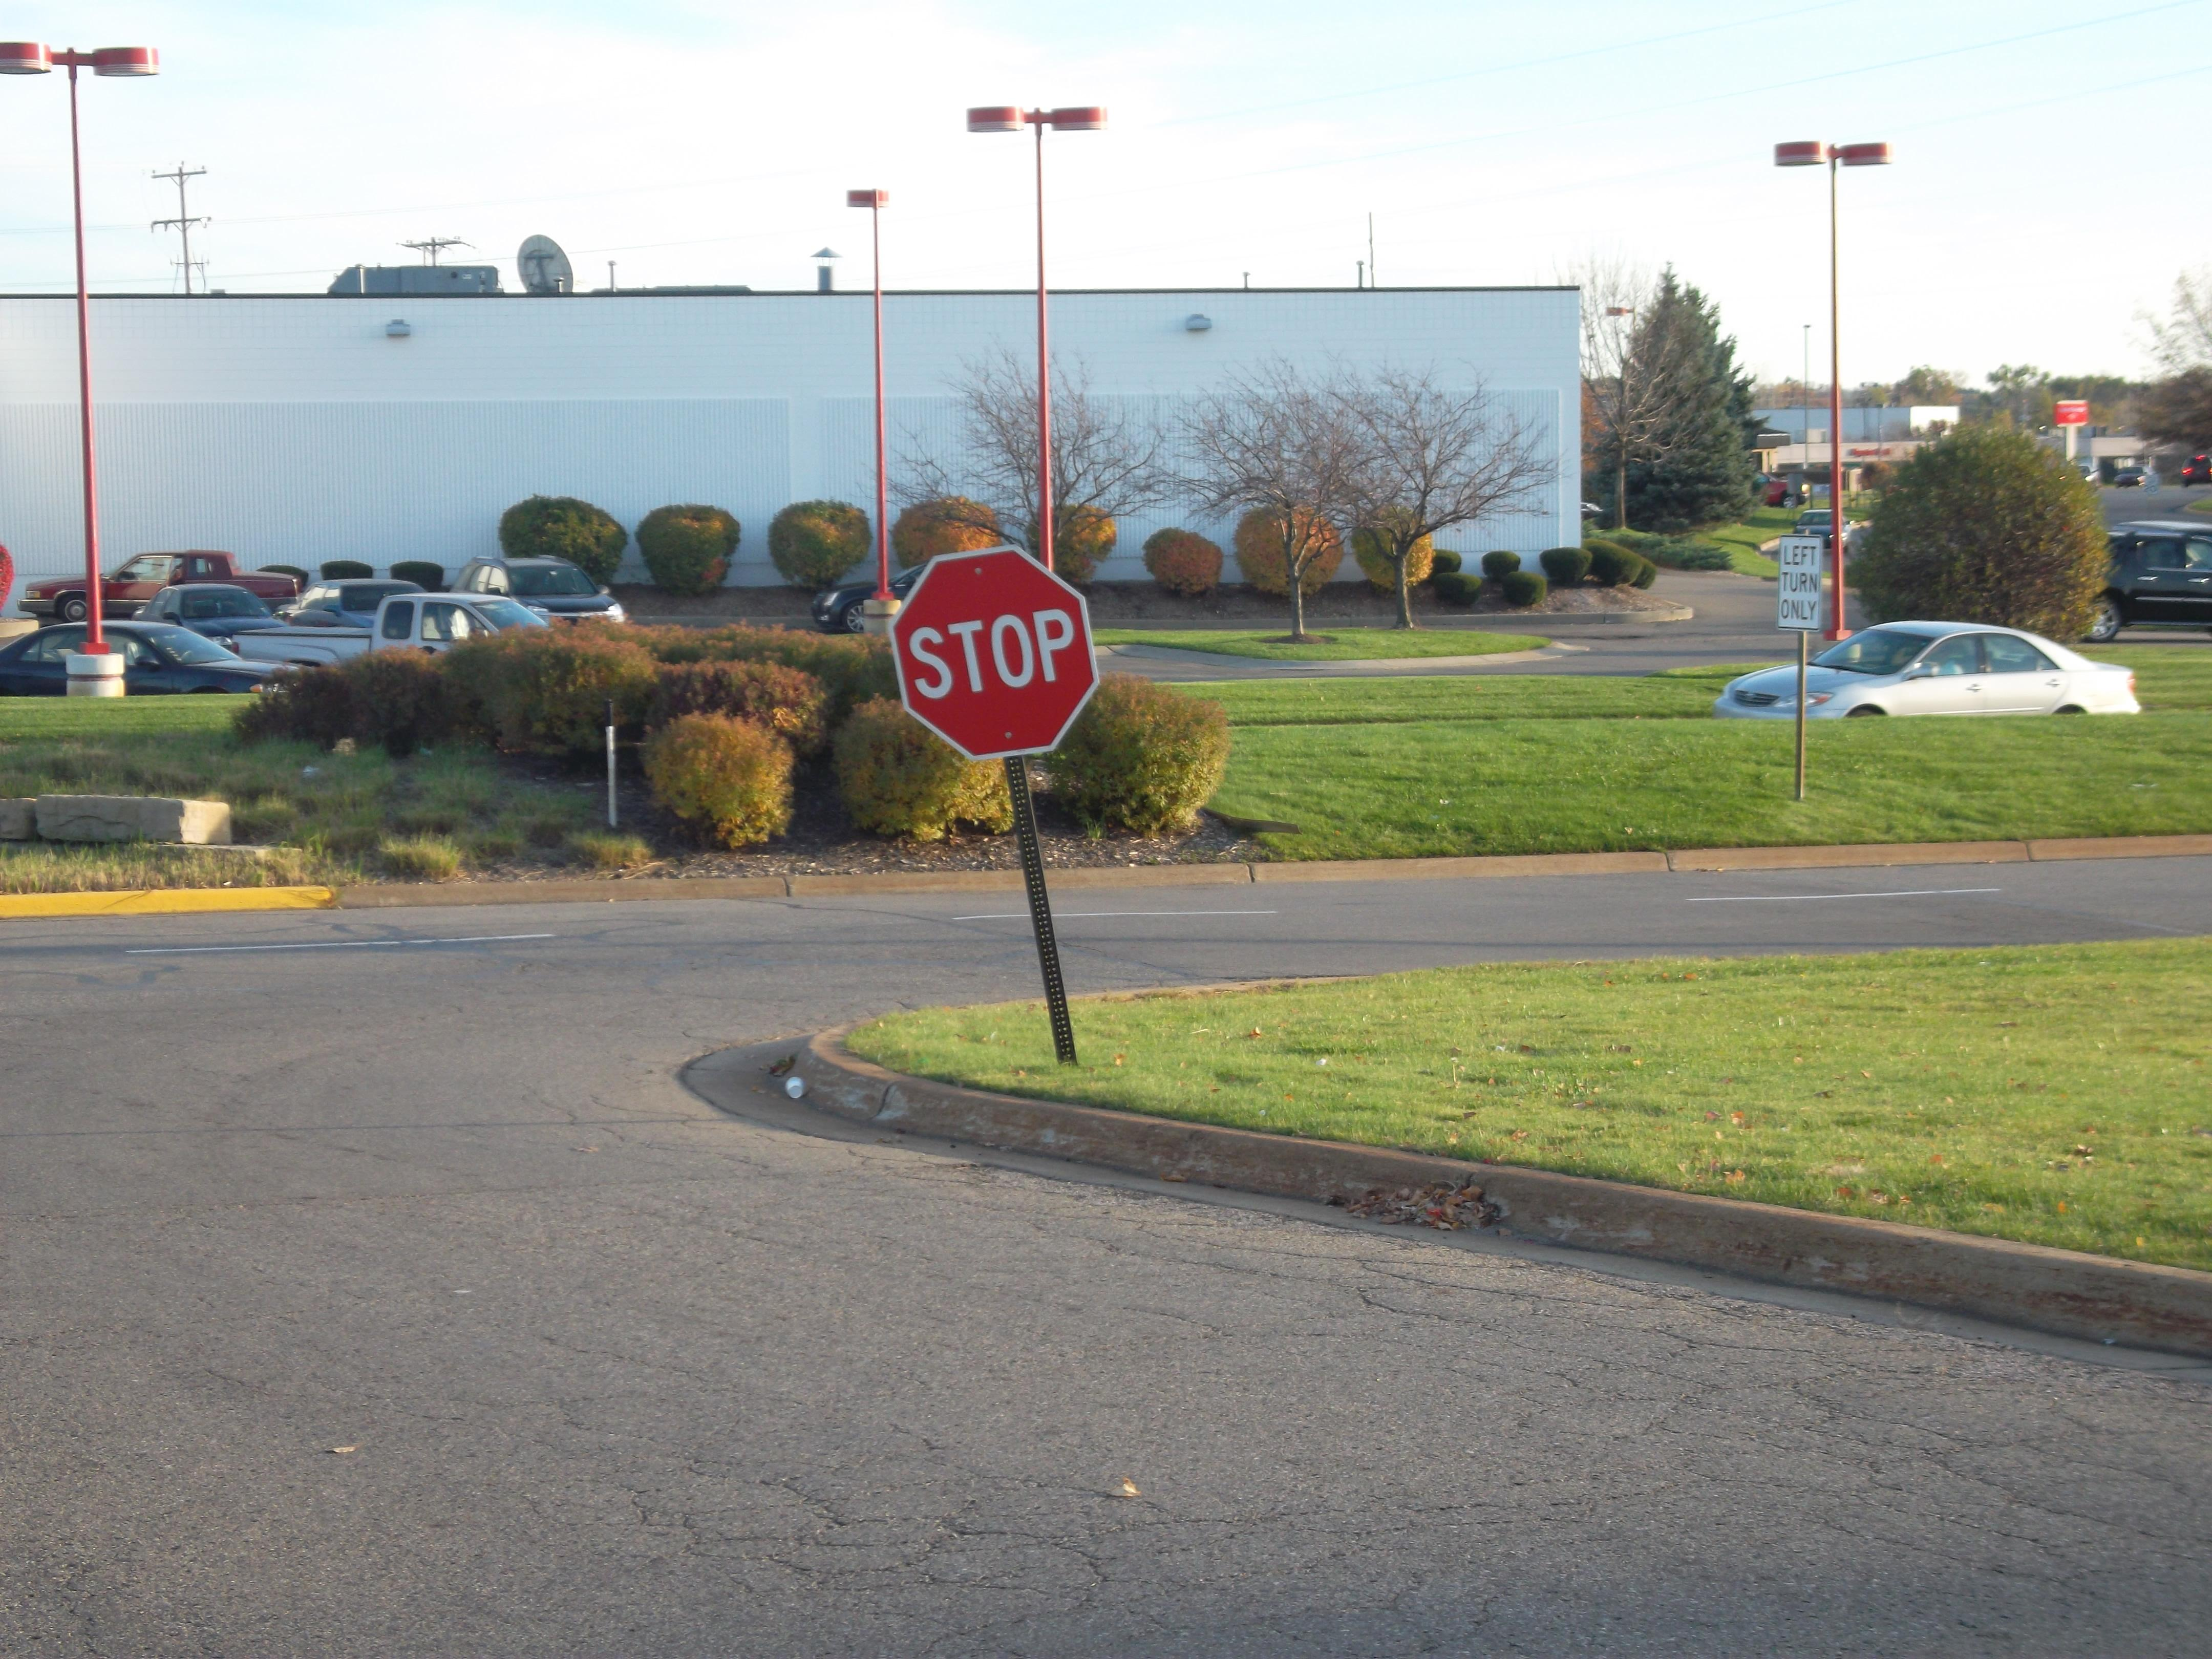regulatory: (1770, 532, 1832, 641)
stop: (871, 533, 1111, 758)
